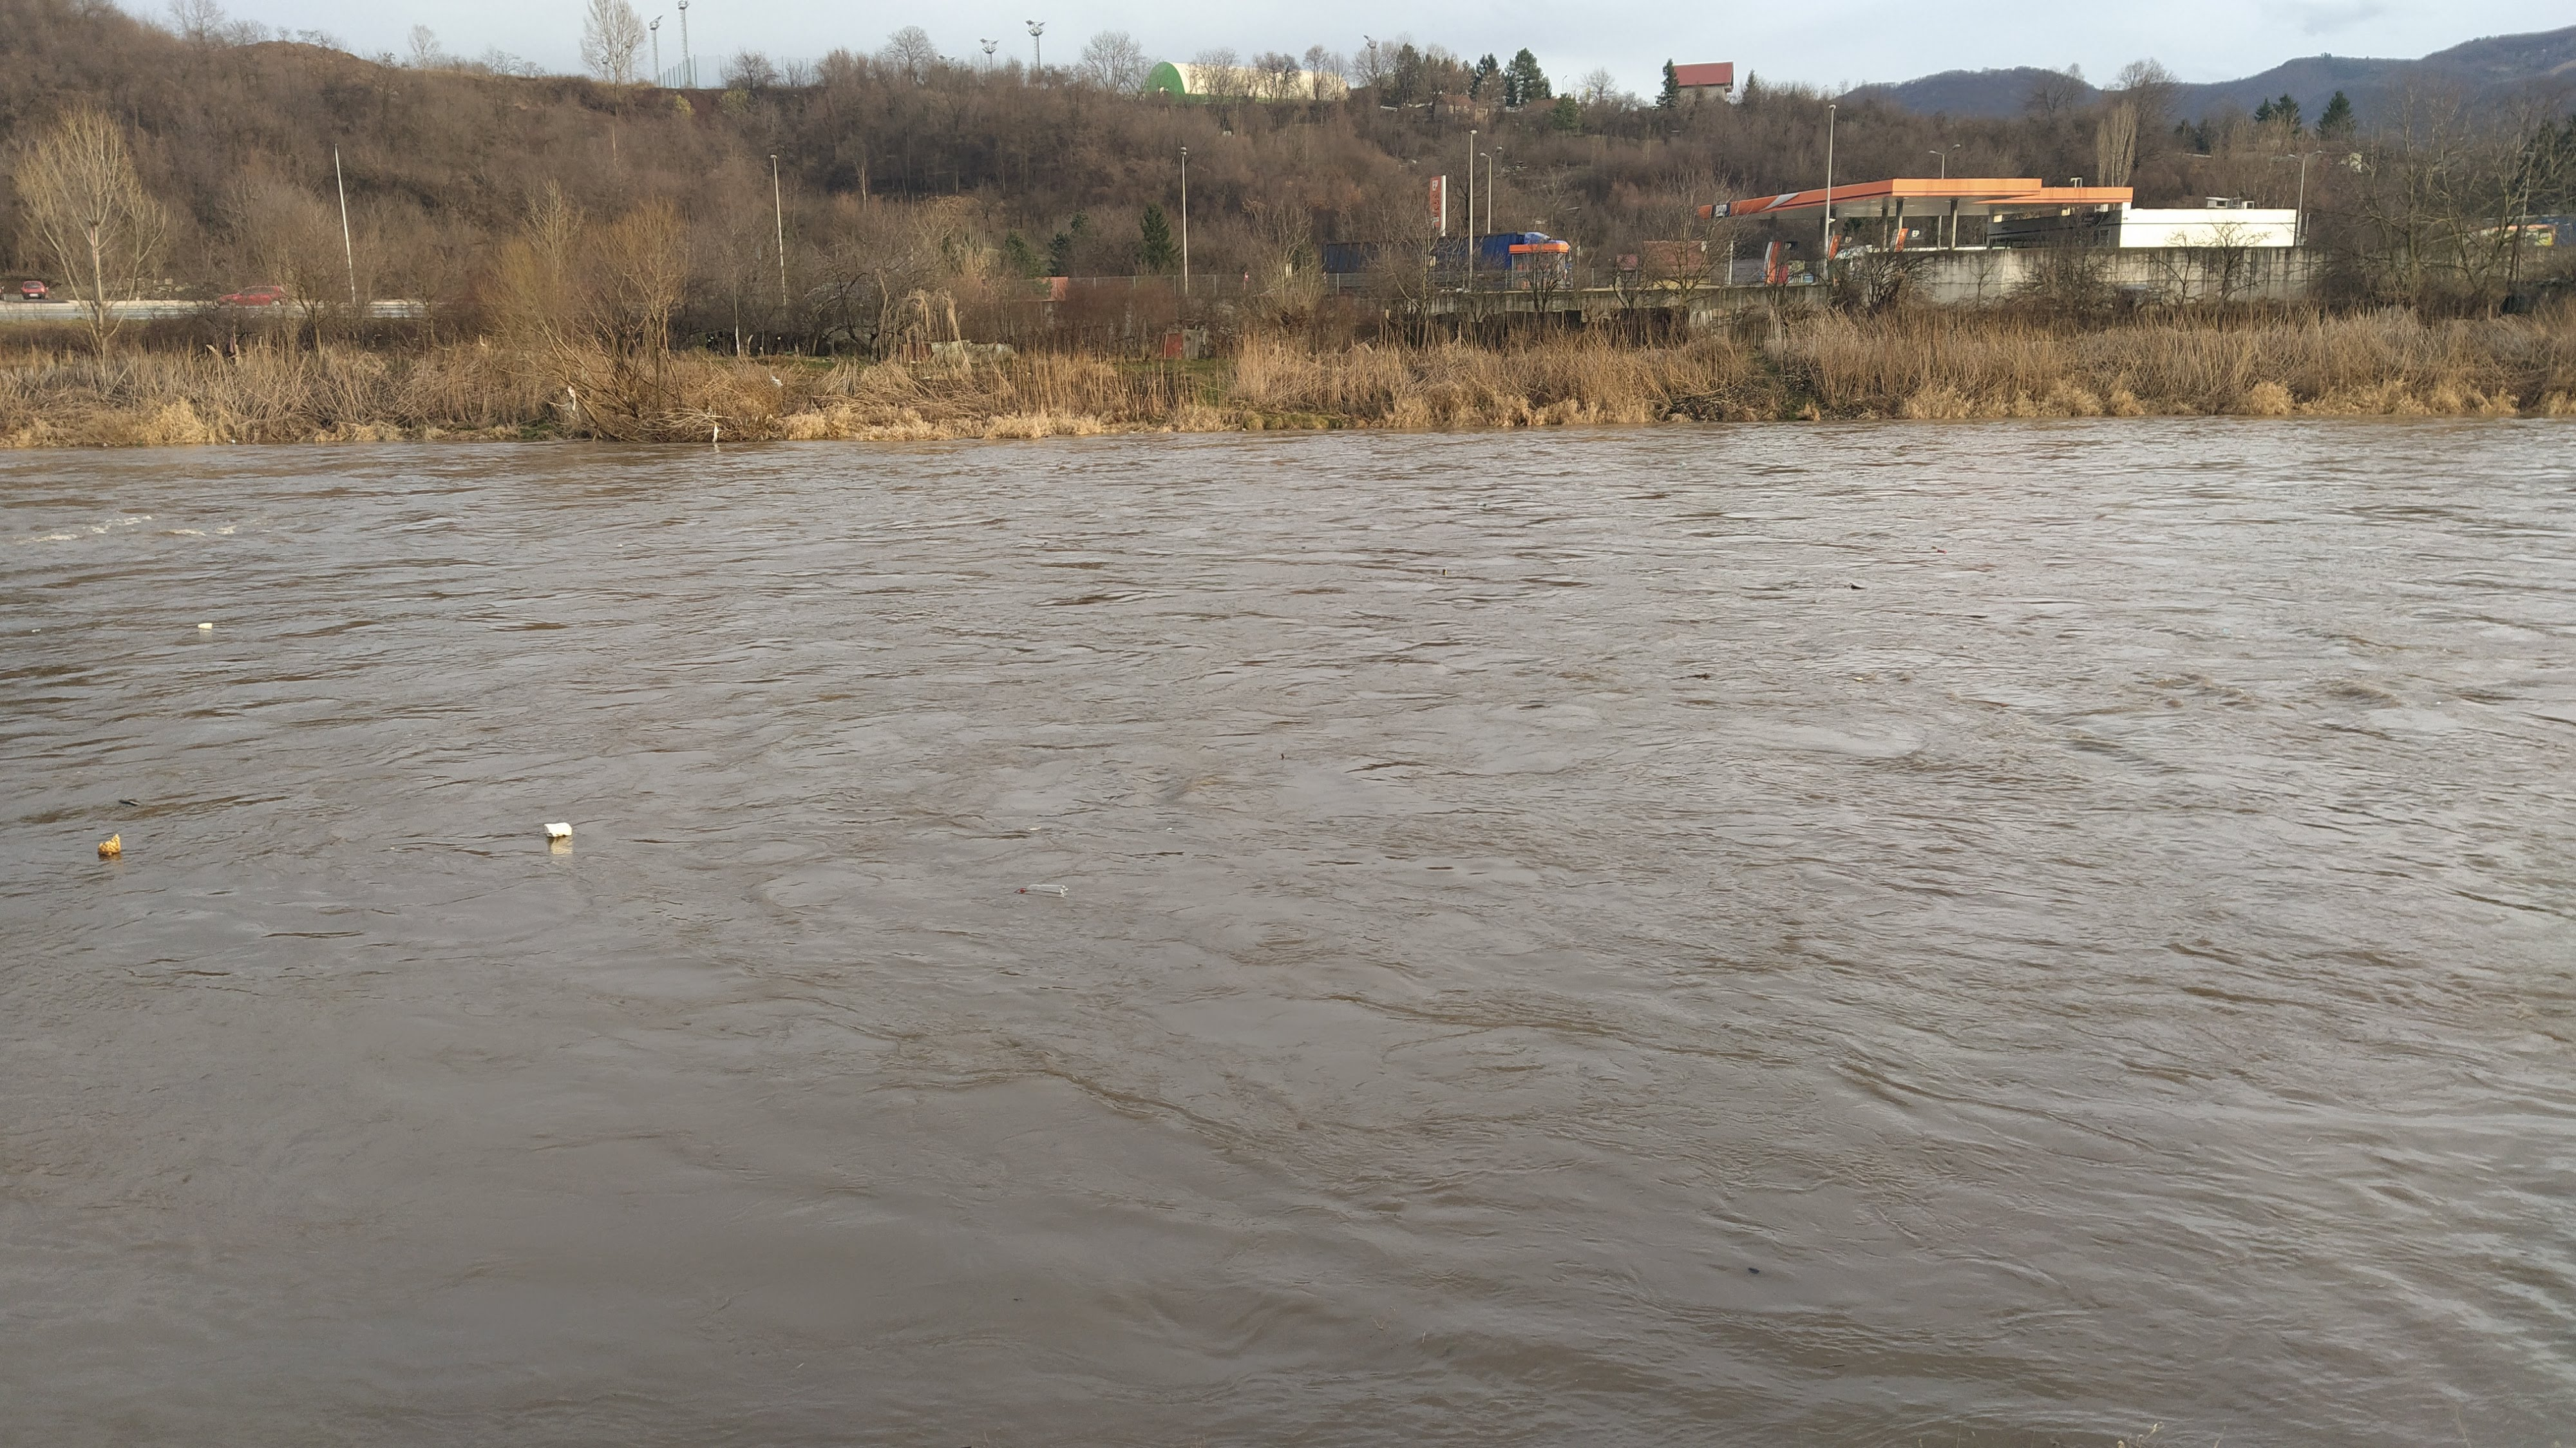Plastic Bottle: (1021, 883, 1069, 899), (198, 623, 212, 630), (1851, 584, 1863, 589), (1476, 503, 1484, 506), (1679, 462, 1684, 466)
